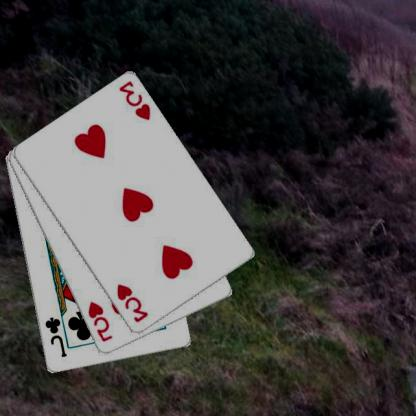3H: (115, 281, 152, 324), (118, 78, 154, 122)
5H: (87, 299, 116, 343)
JC: (43, 315, 70, 359)
